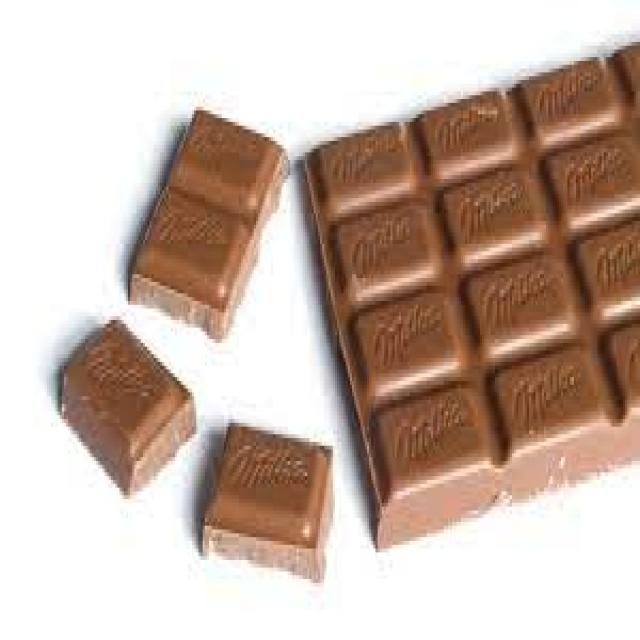Chocolate: (304, 36, 640, 554), (126, 100, 292, 340), (59, 306, 198, 497), (205, 421, 337, 579)
